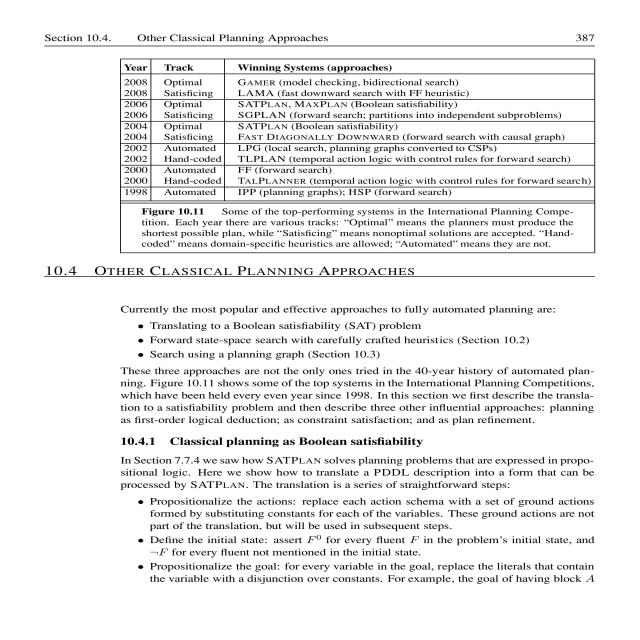diagram: (90, 54, 603, 258)
